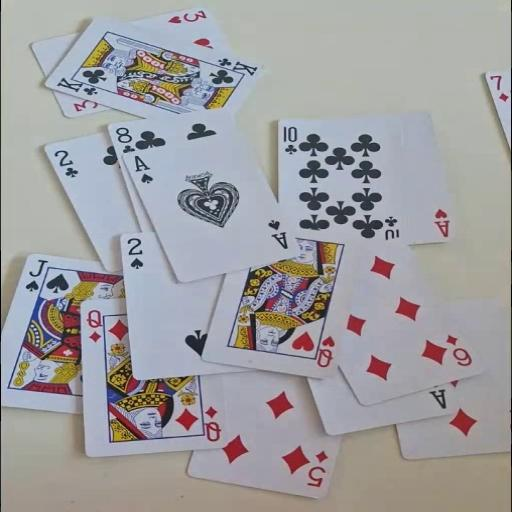10: (314, 334, 336, 369), (281, 124, 299, 155)
2: (50, 148, 80, 178), (124, 236, 146, 270)
3: (165, 8, 208, 24)
5: (304, 448, 331, 489)
6: (444, 332, 474, 368)
7: (488, 74, 510, 102)
8: (112, 125, 136, 154)
A: (264, 217, 290, 250), (432, 206, 452, 238)
J: (22, 258, 48, 292)
K: (53, 75, 100, 96), (214, 56, 260, 76)
Q: (200, 404, 222, 443), (84, 307, 104, 344)
